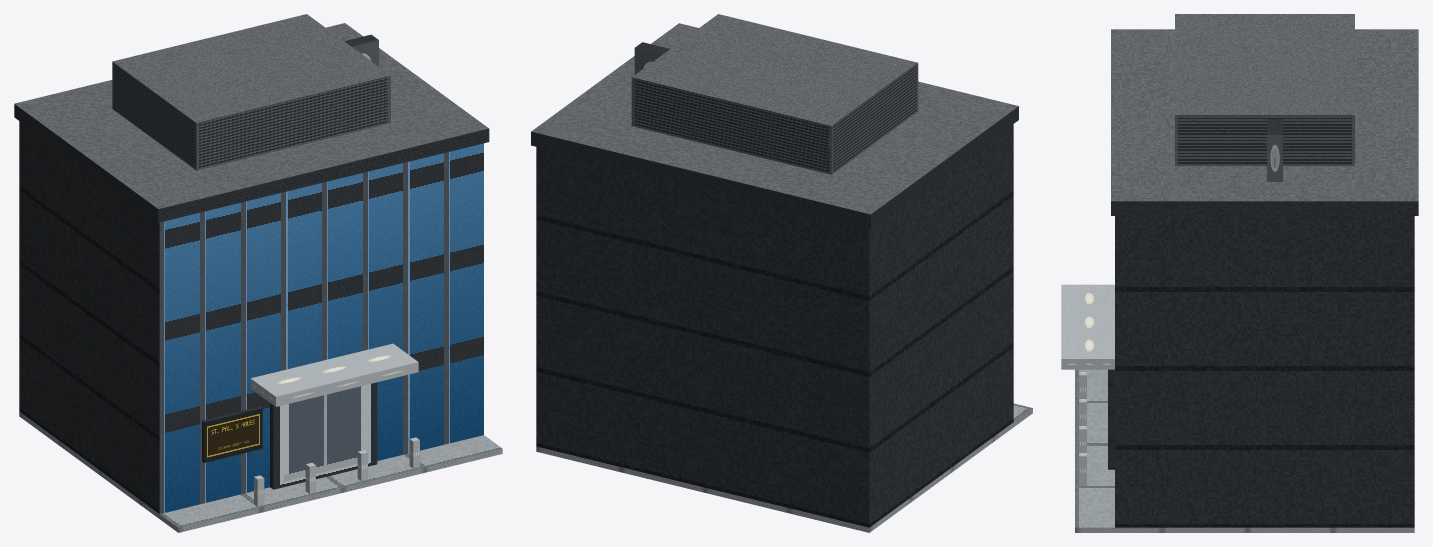
The model's file is building_office_block.glb.
The picture shows the model from 3 angles, left to right: view 1: azimuth 30°, elevation 25°; view 2: azimuth 150°, elevation 25°; view 3: azimuth 270°, elevation 25°; orthographic projection. The views are drawn at different scales.
Parts seen in each view (by area): view 1: Building_Office_Block; view 2: Building_Office_Block; view 3: Building_Office_Block.
Boxes of the visible parts, x1=… form: Building_Office_Block: x1=14, y1=14, x2=502, y2=532; Building_Office_Block: x1=531, y1=14, x2=1032, y2=532; Building_Office_Block: x1=1061, y1=14, x2=1418, y2=532.
Size of the model in its own units: 10.2 by 10.6 by 8.95.
1 material, 1 textured.
